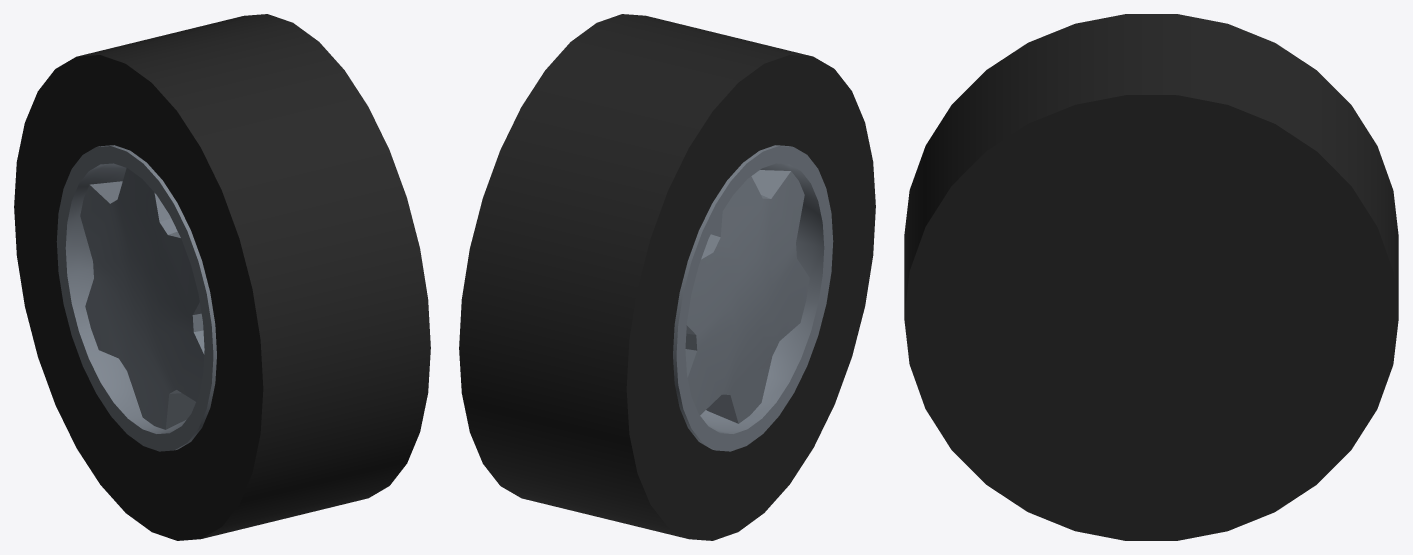
File: llanta.glb
3 renders of one model, left to right at view 1: azimuth 30°, elevation 25°; view 2: azimuth 150°, elevation 25°; view 3: azimuth 270°, elevation 25°, orthographic.
Visible parts, largest first — view 1: wheel fr; view 2: wheel fr; view 3: wheel fr.
Boxes of the visible parts, left/top/right/bottom form: wheel fr: left=14, top=14, right=430, bottom=540; wheel fr: left=459, top=14, right=875, bottom=540; wheel fr: left=904, top=14, right=1398, bottom=540.
Size of the model in its own units: 0.2575 by 0.6463 by 0.6498.
Materials: 1 (1 with a texture image).
